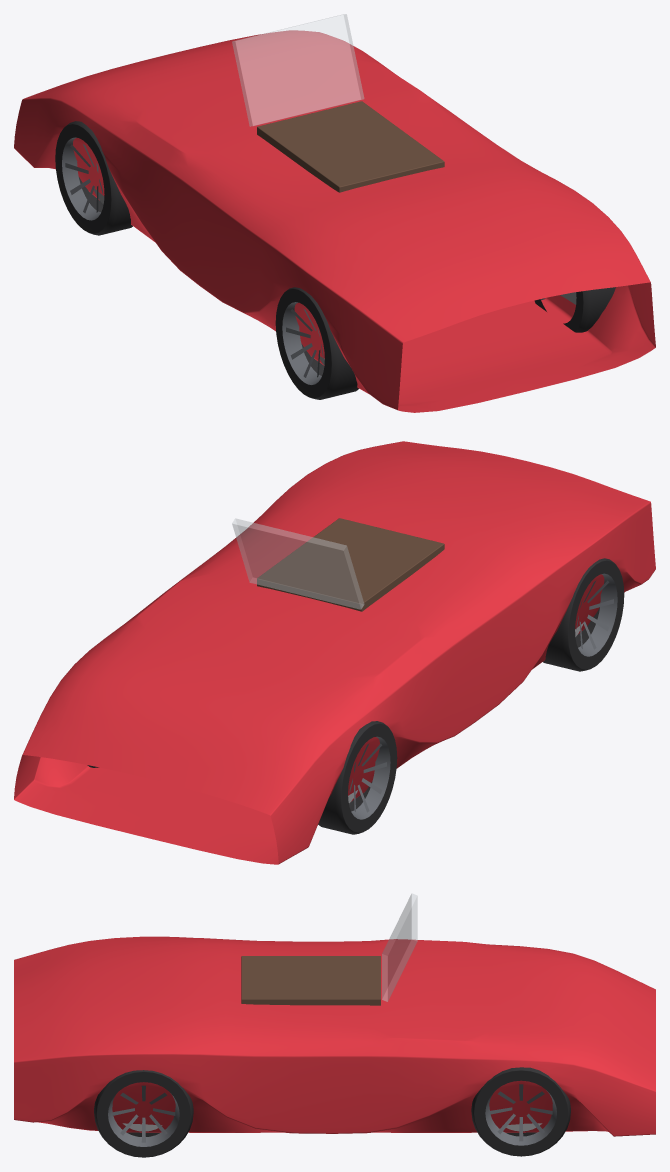
The model's file is vehicle.glb.
3 renders of one model, top to bottom at view 1: azimuth 30°, elevation 25°; view 2: azimuth 150°, elevation 25°; view 3: azimuth 270°, elevation 25°, orthographic. The views are drawn at different scales.
Parts seen in each view (by area): view 1: BODY_MazdaMiata_ND_MainHull, GLASS_Windshield, INTERIOR_CockpitTub, WHEEL_RR_Tire, WHEEL_FR_Tire, WHEEL_RR_Rim, WHEEL_FR_Rim, WHEEL_RL_Tire; view 2: BODY_MazdaMiata_ND_MainHull, INTERIOR_CockpitTub, GLASS_Windshield, WHEEL_RR_Tire, WHEEL_FR_Tire, WHEEL_RR_Rim, WHEEL_FR_Rim; view 3: BODY_MazdaMiata_ND_MainHull, INTERIOR_CockpitTub, WHEEL_FL_Tire, WHEEL_RL_Tire, GLASS_Windshield, WHEEL_RL_Rim, WHEEL_FL_Rim.
Boxes of the visible parts, x1,y1,x2,y2 form: BODY_MazdaMiata_ND_MainHull: [14, 30, 655, 412]; GLASS_Windshield: [232, 14, 364, 126]; INTERIOR_CockpitTub: [257, 101, 444, 192]; WHEEL_RR_Tire: [275, 287, 358, 399]; WHEEL_FR_Tire: [55, 121, 132, 235]; WHEEL_RR_Rim: [282, 302, 323, 384]; WHEEL_FR_Rim: [62, 137, 102, 220]; WHEEL_RL_Tire: [534, 287, 615, 332]; BODY_MazdaMiata_ND_MainHull: [14, 441, 655, 864]; INTERIOR_CockpitTub: [257, 518, 444, 611]; GLASS_Windshield: [232, 518, 364, 609]; WHEEL_RR_Tire: [543, 558, 624, 671]; WHEEL_FR_Tire: [318, 721, 397, 834]; WHEEL_RR_Rim: [576, 573, 617, 656]; WHEEL_FR_Rim: [349, 736, 390, 819]; BODY_MazdaMiata_ND_MainHull: [14, 936, 655, 1136]; INTERIOR_CockpitTub: [241, 956, 380, 1005]; WHEEL_FL_Tire: [471, 1067, 570, 1156]; WHEEL_RL_Tire: [94, 1070, 193, 1157]; GLASS_Windshield: [382, 893, 417, 1001]; WHEEL_RL_Rim: [108, 1085, 179, 1146]; WHEEL_FL_Rim: [485, 1084, 556, 1145].
Bounding box in the file's own units: 1.75 × 1.24 × 3.93.
